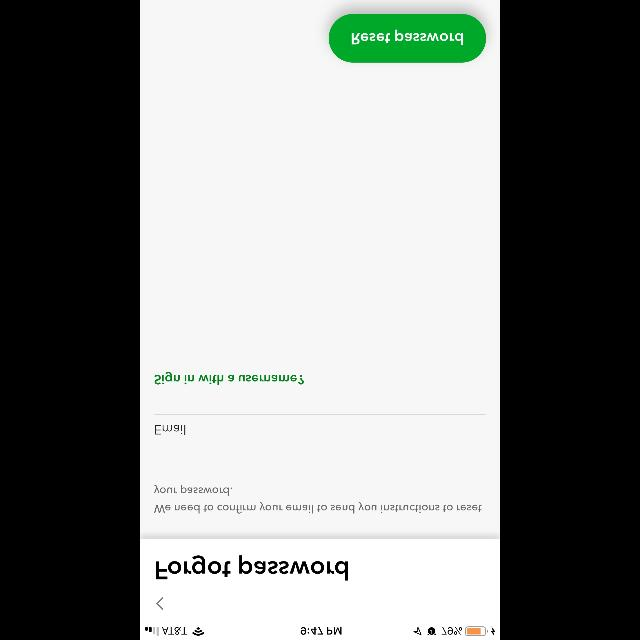icon: (156, 596, 164, 610)
input: (154, 414, 486, 434)
text: (154, 484, 482, 514), (156, 556, 348, 580), (154, 372, 304, 384), (155, 425, 185, 435)
textbutton: (328, 13, 486, 62)
uppertaskbar: (140, 626, 500, 640)
